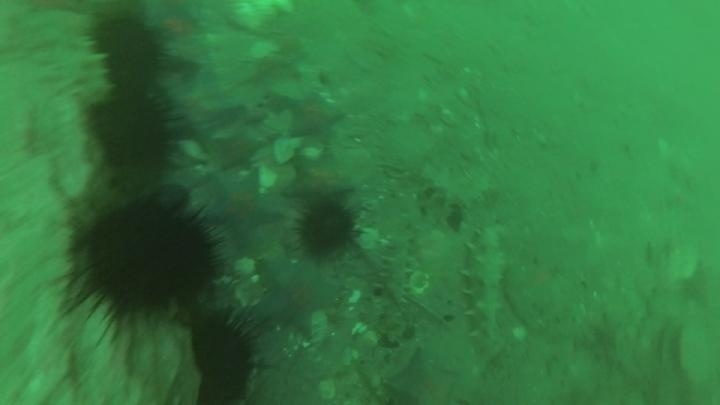echinus: (68, 197, 221, 326), (89, 93, 176, 174), (188, 311, 261, 403), (88, 15, 168, 94), (294, 199, 359, 258)
holothurian: (460, 220, 511, 358), (46, 32, 116, 108), (372, 236, 416, 343), (418, 157, 495, 209)
starfish: (251, 255, 343, 339), (204, 174, 282, 242), (381, 345, 469, 405), (165, 69, 243, 135), (284, 156, 355, 207), (281, 91, 346, 144), (211, 127, 264, 172), (147, 6, 203, 47)
